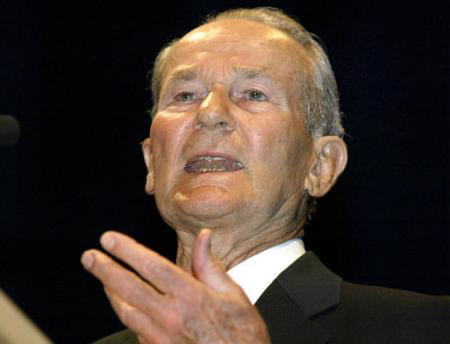Face: (148, 40, 311, 231)
